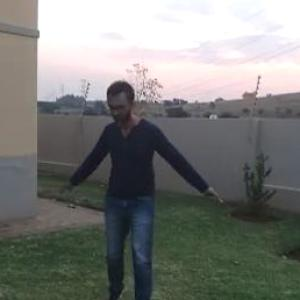land: (57, 68, 238, 299)
